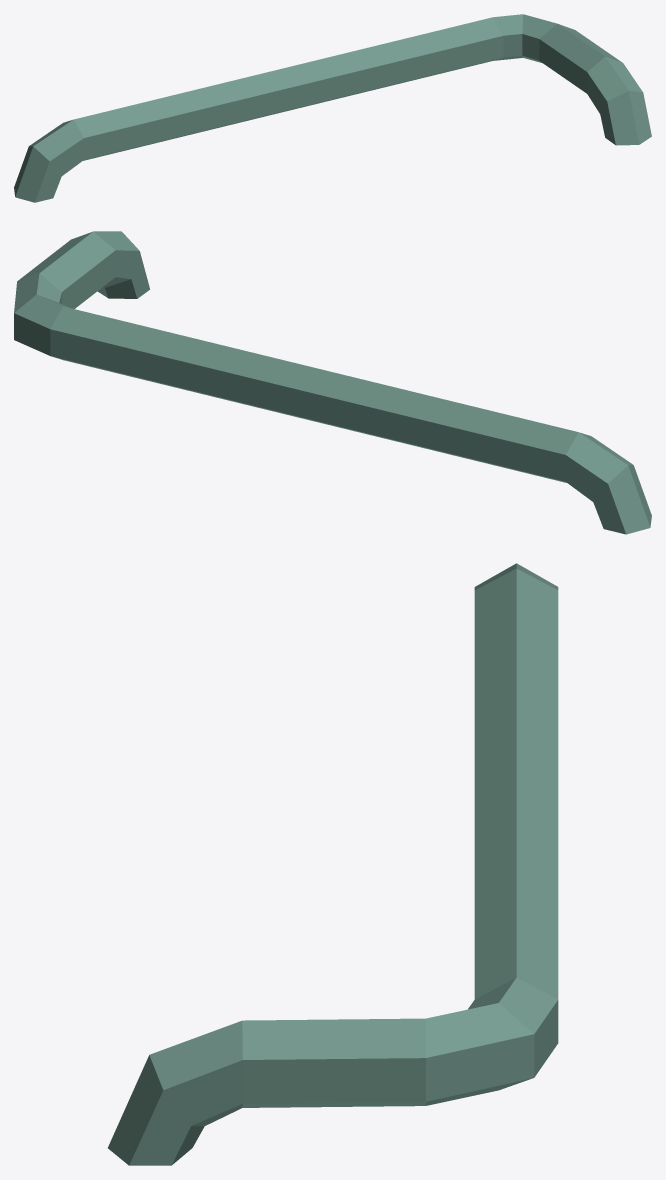
File: Pipe_L.glb
The picture shows the model from 3 angles, top to bottom: view 1: azimuth 30°, elevation 25°; view 2: azimuth 150°, elevation 25°; view 3: azimuth 270°, elevation 25°; orthographic projection. The views are drawn at different scales.
Visible parts, largest first — view 1: Pipe_L; view 2: Pipe_L; view 3: Pipe_L.
Part boxes in pixels (<box>): Pipe_L: <box>14,14,651,202</box>; Pipe_L: <box>14,231,651,534</box>; Pipe_L: <box>108,563,558,1165</box>.
Size of the model in its own units: 0.8518 by 0.096 by 0.308.
1 material, 1 textured.
